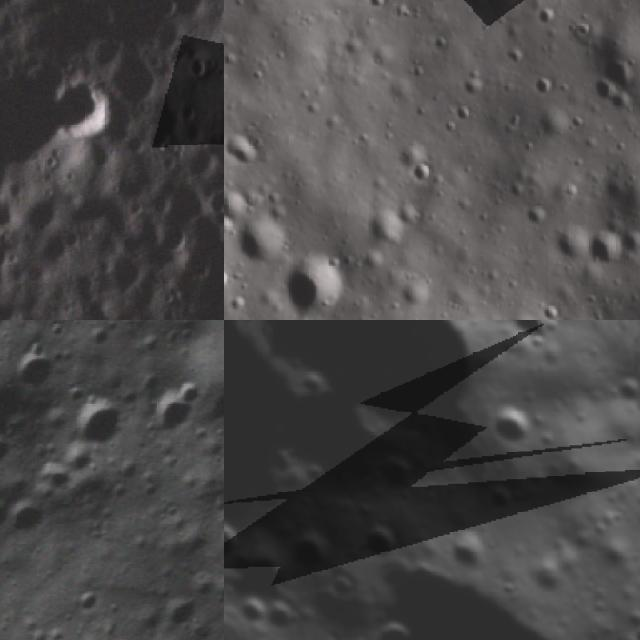crater: (282, 320, 523, 479), (0, 58, 76, 189), (224, 530, 311, 630), (276, 247, 358, 320), (54, 69, 120, 146), (580, 40, 640, 123), (478, 394, 544, 460), (63, 390, 128, 457), (232, 210, 294, 272), (439, 523, 501, 585), (150, 378, 208, 443), (520, 547, 581, 607), (369, 442, 429, 502), (286, 525, 344, 584), (153, 175, 210, 235), (9, 338, 65, 397), (352, 514, 408, 572), (493, 320, 576, 359), (590, 529, 640, 582), (4, 495, 52, 544), (318, 565, 366, 613), (67, 292, 149, 320), (363, 606, 429, 640), (582, 225, 629, 272), (158, 593, 204, 637), (260, 597, 306, 640), (224, 514, 253, 580), (398, 272, 436, 310), (402, 158, 440, 190), (182, 48, 213, 84), (76, 586, 105, 620), (205, 122, 224, 171), (11, 303, 54, 320), (209, 176, 224, 218), (0, 496, 12, 531)
